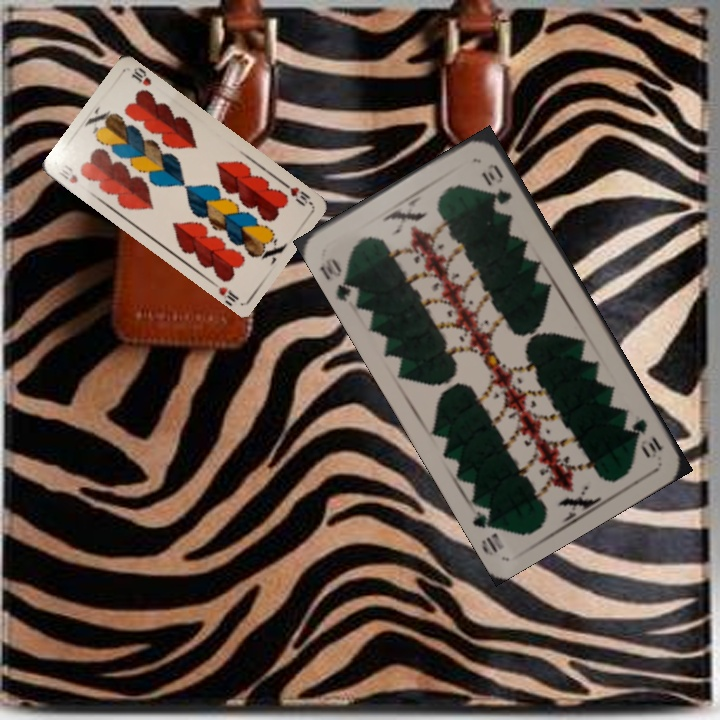G10: (316, 254, 362, 304), (628, 414, 665, 462)
H10: (278, 178, 314, 209), (54, 160, 81, 186)
